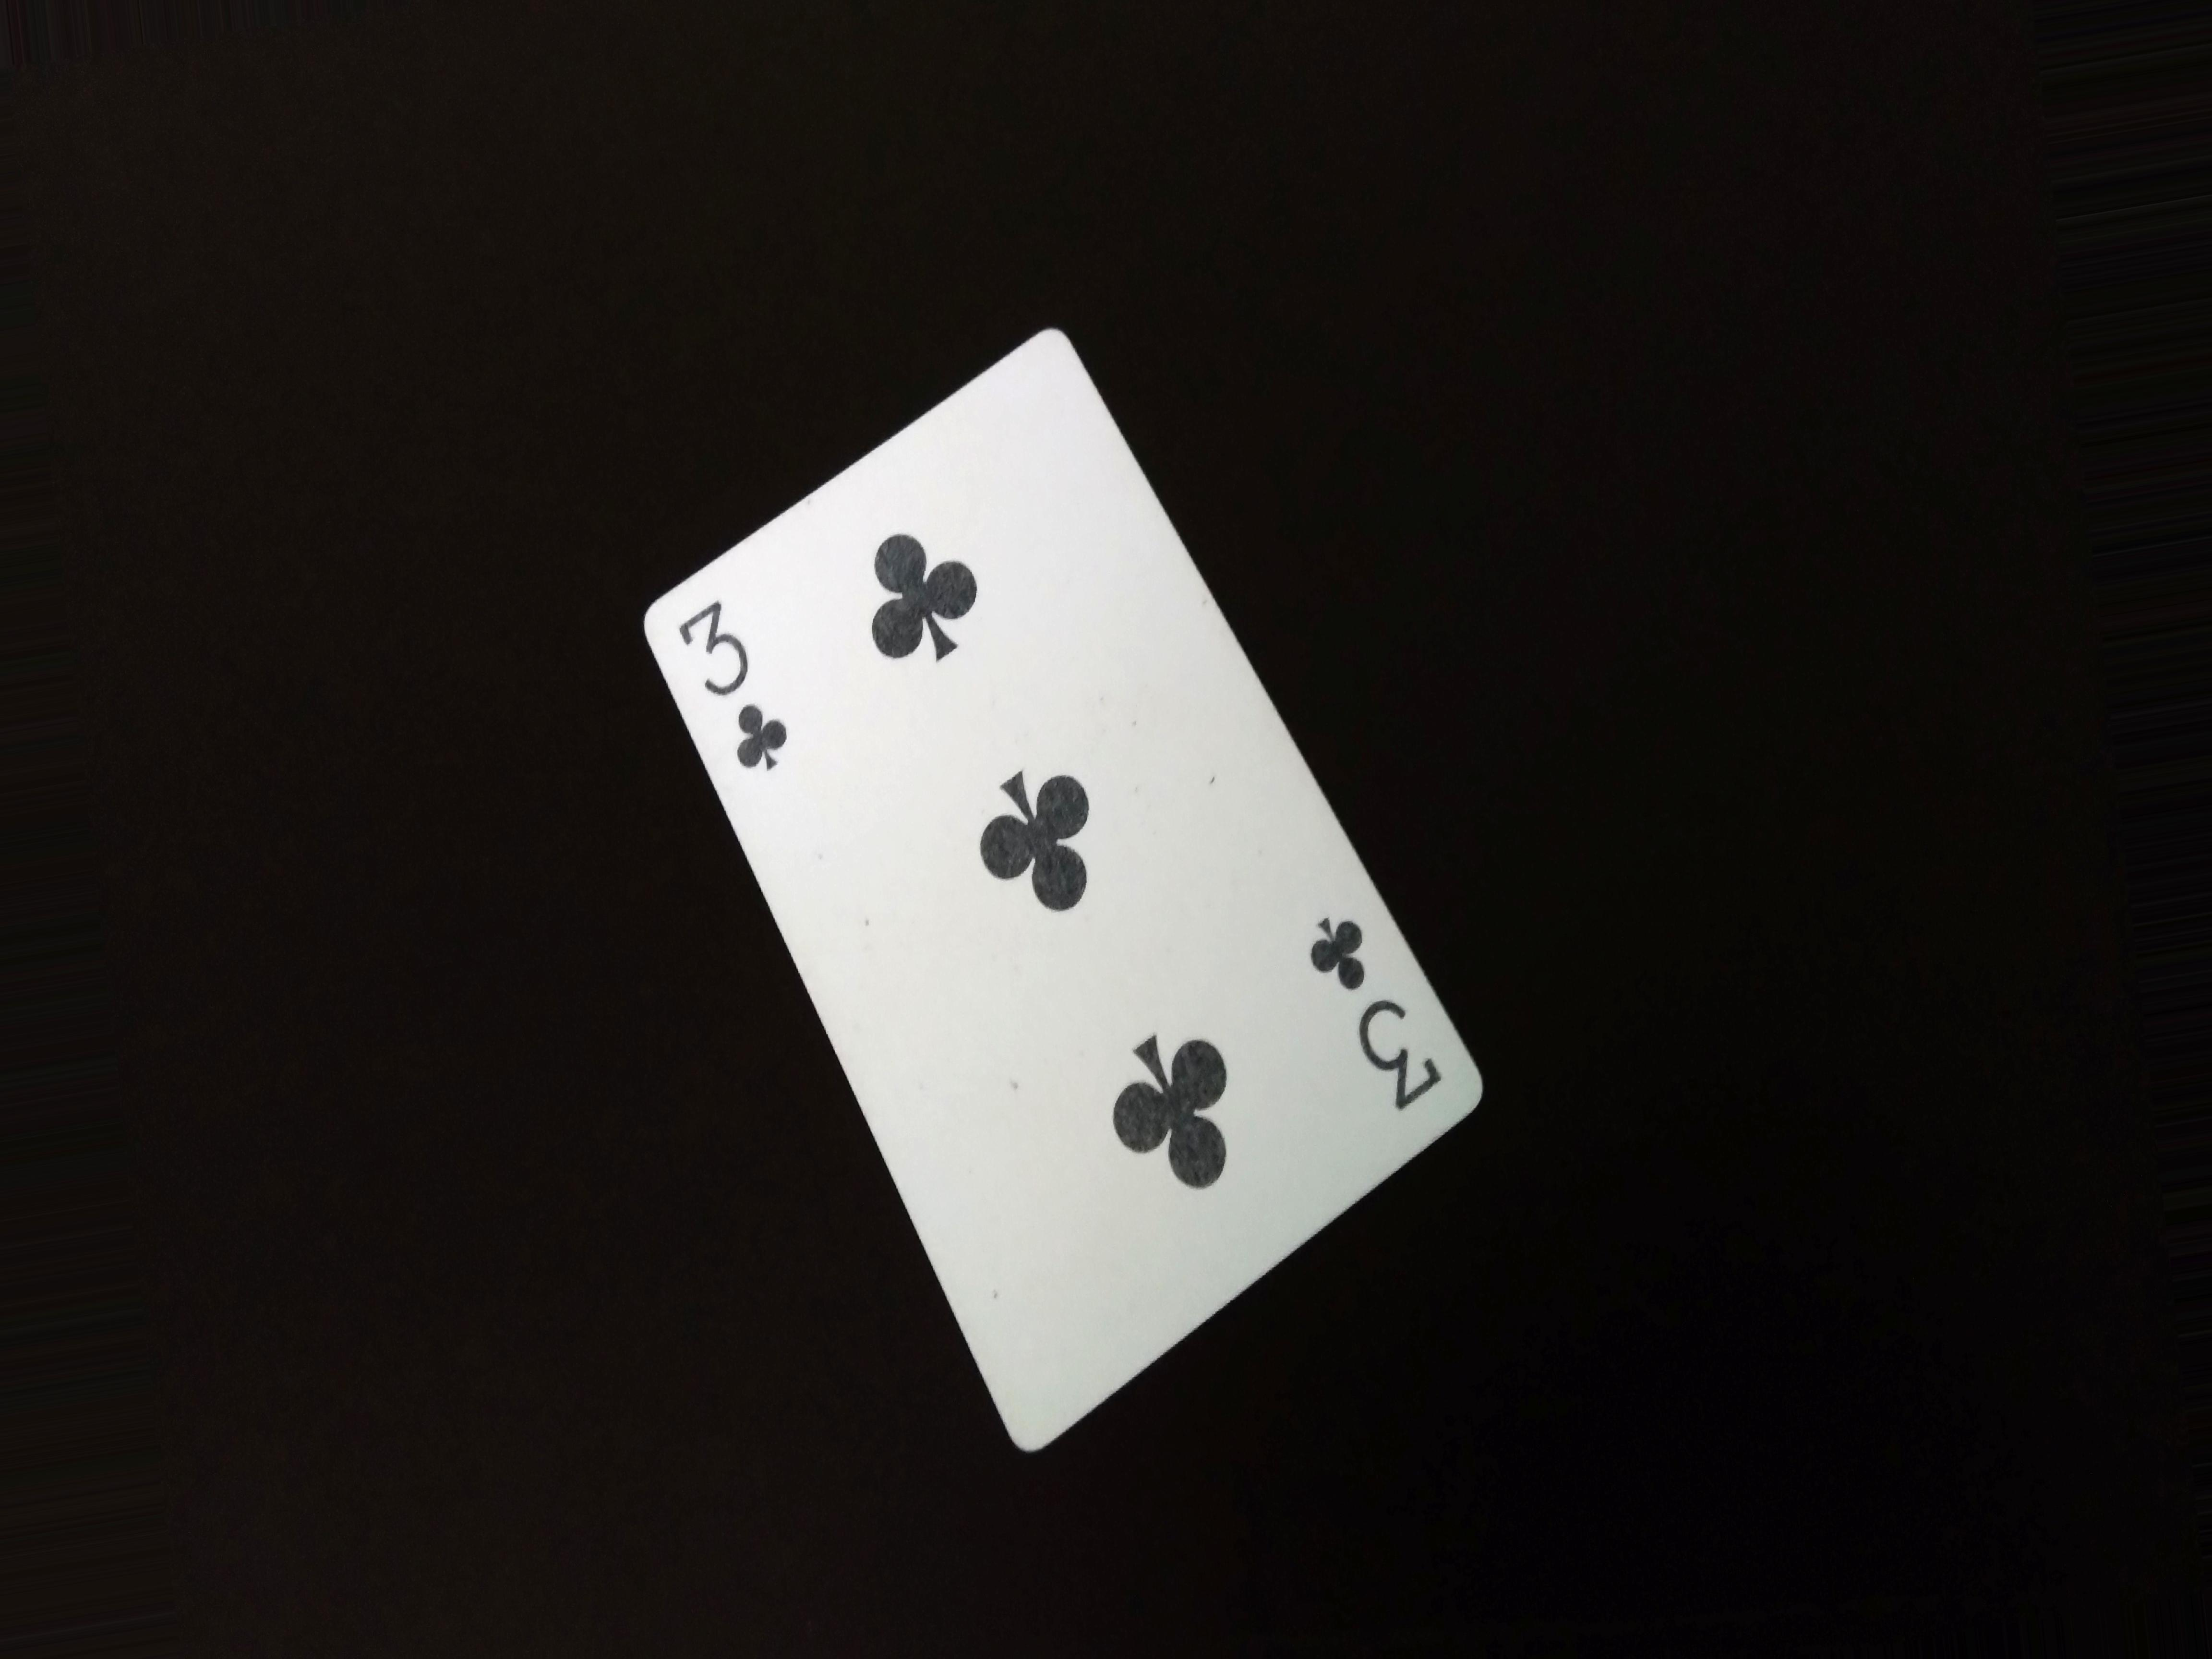3C: (1292, 918, 1470, 1119)
